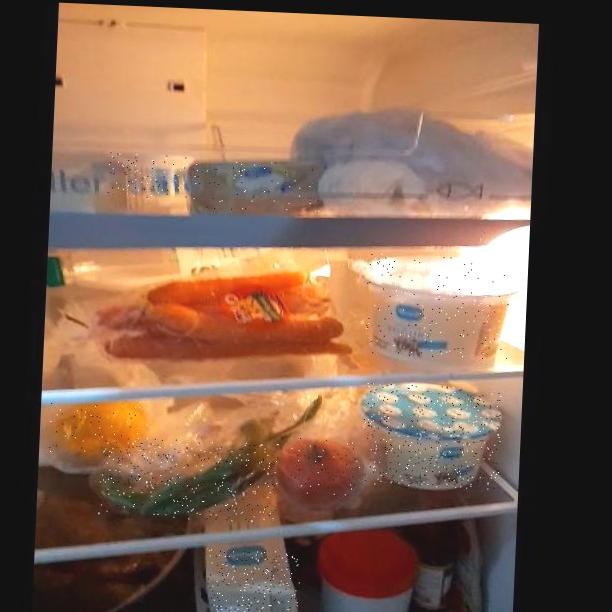butter: (190, 159, 321, 214)
carrot: (105, 271, 339, 355)
green chilies: (97, 436, 279, 524)
lemon: (48, 403, 155, 465)
milk: (206, 548, 301, 612)
tomato: (282, 437, 363, 497)
yoghurt: (363, 252, 513, 360), (361, 383, 503, 490), (106, 152, 190, 202)
